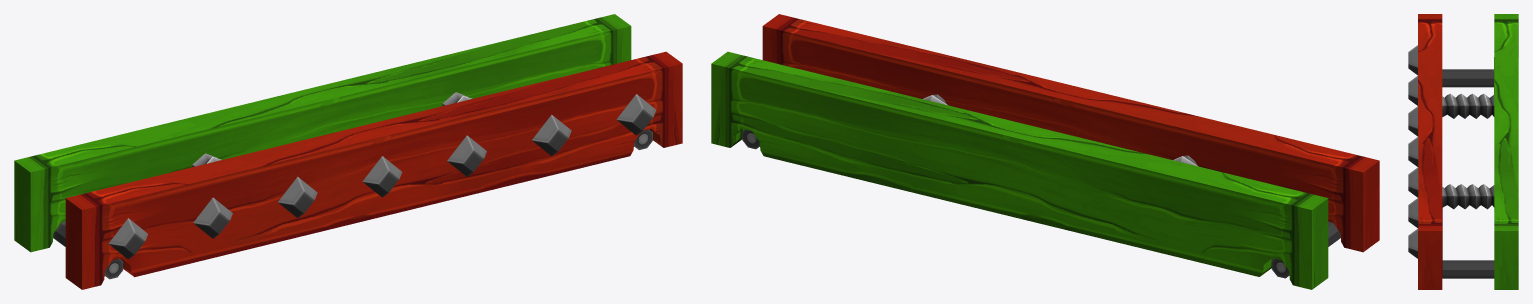
The model's file is dynamic_fence_burger_04.fbx.
3 renders of one model, left to right at view 1: azimuth 30°, elevation 25°; view 2: azimuth 150°, elevation 25°; view 3: azimuth 270°, elevation 25°, orthographic. The views are drawn at different scales.
Visible parts, largest first — view 1: front_wall_13, back_wall_11; view 2: back_wall_11, front_wall_13; view 3: back_wall_11, front_wall_13, spring_19, spring_23.
Part boxes in pixels (<box>): front_wall_13: <box>65,51,682,289</box>; back_wall_11: <box>14,14,652,279</box>; back_wall_11: <box>711,51,1340,289</box>; front_wall_13: <box>762,14,1379,252</box>; back_wall_11: <box>1442,14,1518,289</box>; front_wall_13: <box>1408,14,1442,289</box>; spring_19: <box>1442,93,1494,118</box>; spring_23: <box>1442,184,1494,209</box>.
Size of the model in its own units: 315 by 40 by 67.66.
